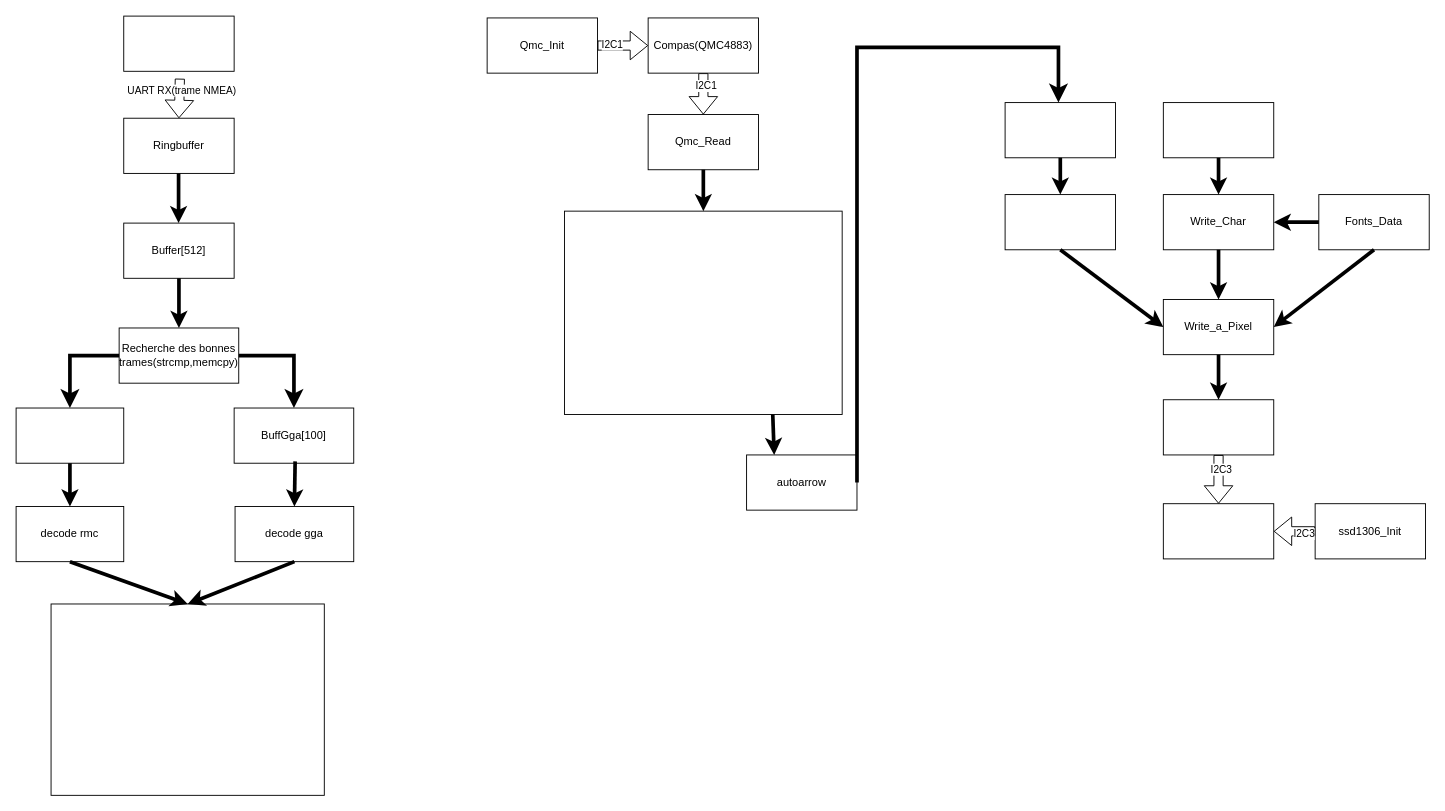
Some shapes in this 1445 by 811 pixel diagram are drawn without their labels. The shapes that lost their labels are listed below. From the top down, each one's centre as x and y in pixels, then its label:
the point at 178,43: GPS
the point at 1060,130: Draw_Arrow
the point at 1218,130: Write_String
the point at 1060,222: Draw_Line
the point at 69,435: BuffRmc[100]
the point at 1218,427: ssd1306_buffer
the point at 1218,531: ssd1306
